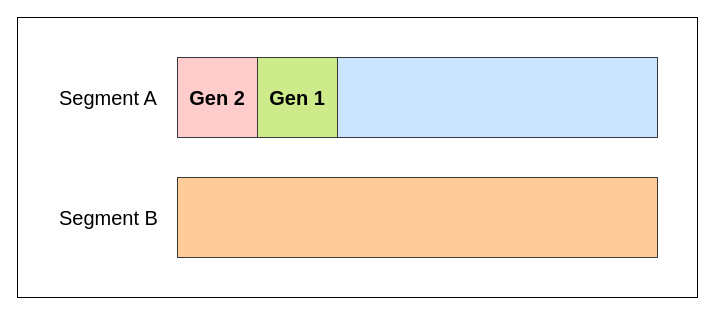
Image size: 715x315. Some labels were removed from this diagram. The shapes that lost their labels are listed below. From the top down, each one's centre as x and y in pixels, then its label:
point 497,97: Gen 0
point 417,217: LOH
